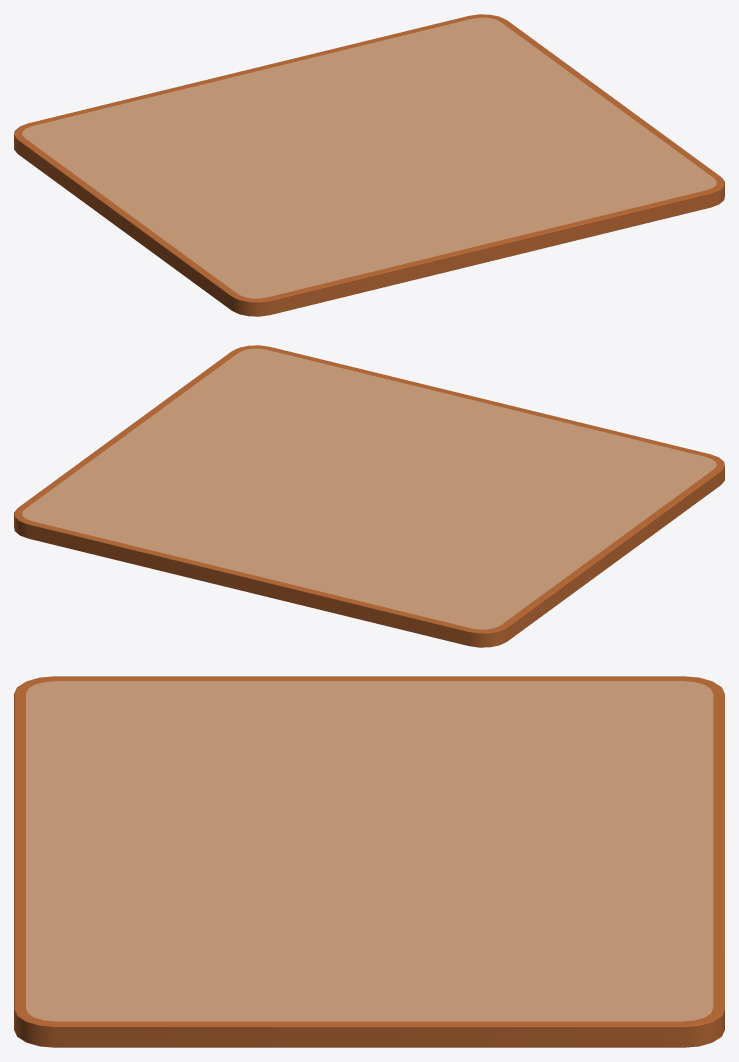
Rendered from Desk.fbx.
3 views of the same model, one above another, from view 1: azimuth 30°, elevation 25°; view 2: azimuth 150°, elevation 25°; view 3: azimuth 270°, elevation 25° (orthographic). The views are drawn at different scales.
Visible parts, largest first — view 1: Desk; view 2: Desk; view 3: Desk.
Part boxes in pixels (<box>): Desk: <box>14,14,724,316</box>; Desk: <box>14,345,724,647</box>; Desk: <box>14,676,724,1047</box>.
Bounding box in the file's own units: 700 × 20 × 600.
